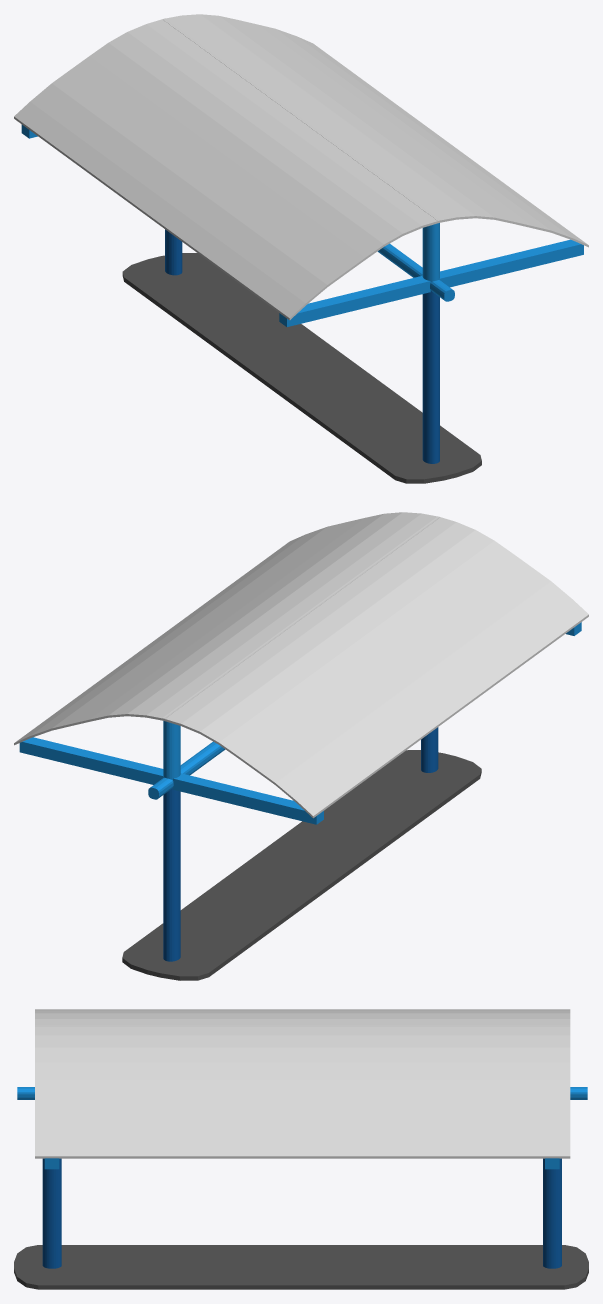
File: bus_state.fbx
3 views of the same model, one above another, from view 1: azimuth 30°, elevation 25°; view 2: azimuth 150°, elevation 25°; view 3: azimuth 270°, elevation 25° (orthographic). The views are drawn at different scales.
Parts seen in each view (by area): view 1: Куб.008; view 2: Куб.008; view 3: Куб.008.
Part boxes in pixels (<box>): Куб.008: <box>14,14,588,483</box>; Куб.008: <box>14,512,588,980</box>; Куб.008: <box>14,1009,588,1289</box>.
Bounding box in the file's own units: 700 × 560 × 1200.
